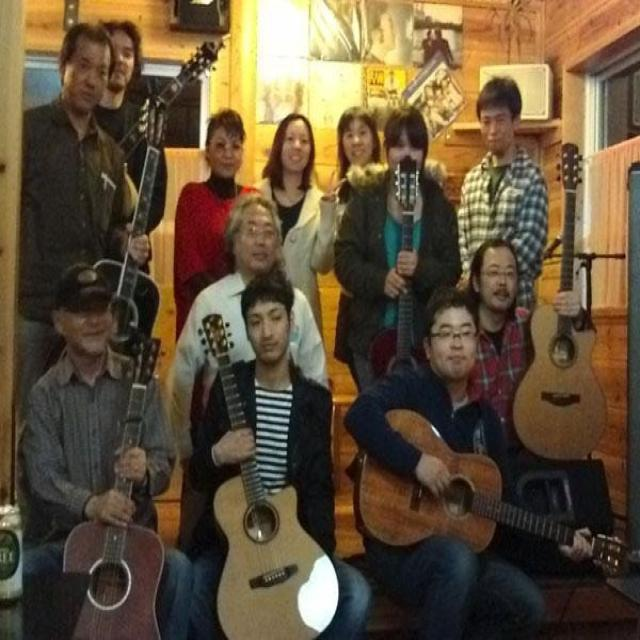guitar: (197, 311, 342, 638), (349, 405, 626, 573), (57, 334, 171, 638), (508, 140, 607, 463), (90, 94, 172, 364), (366, 149, 438, 389), (116, 39, 224, 161)
